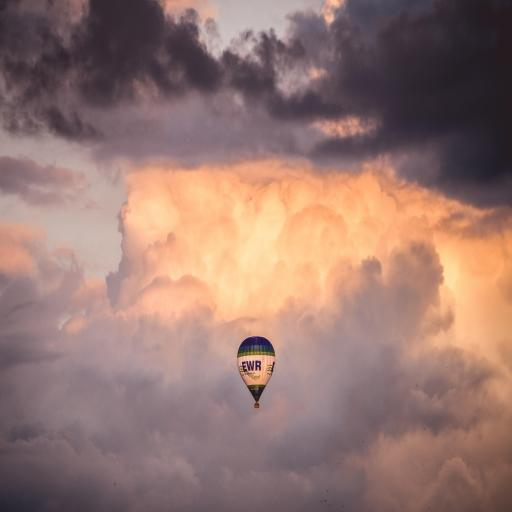hot air ballon: (237, 336, 275, 408)
